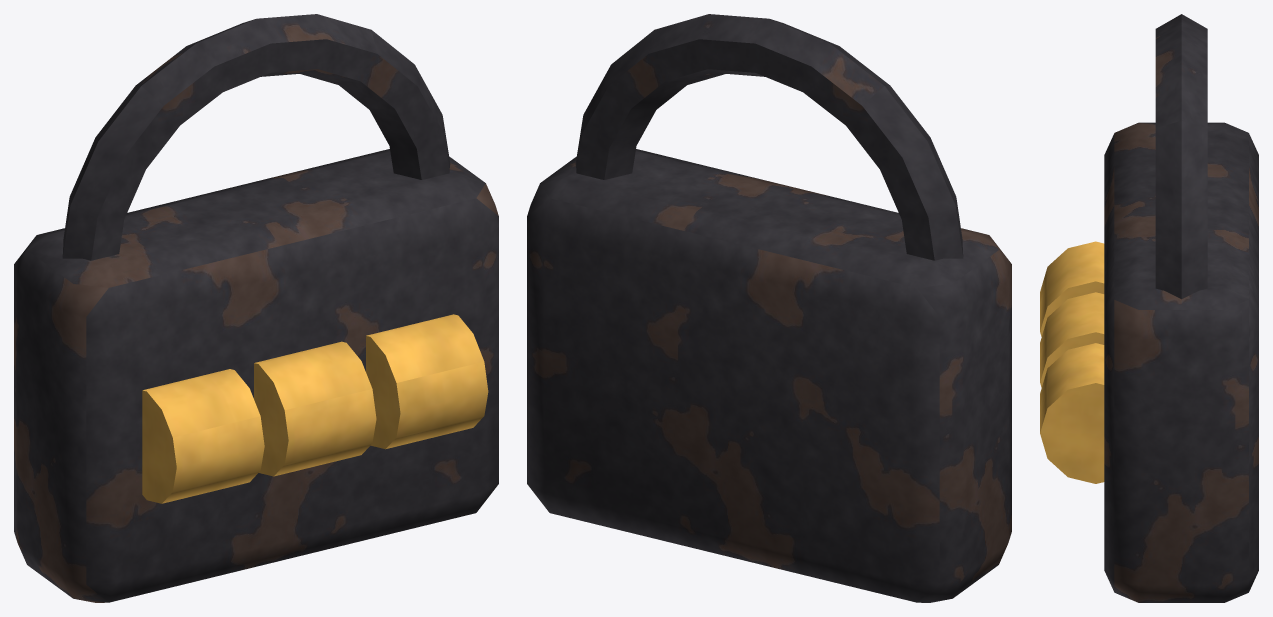
File: dun_lock3.glb
The picture shows the model from 3 angles, left to right: view 1: azimuth 30°, elevation 25°; view 2: azimuth 150°, elevation 25°; view 3: azimuth 270°, elevation 25°; orthographic projection. The views are drawn at different scales.
Visible parts, largest first — view 1: dun_lock3_iron_0, dun_lock3_gold_0; view 2: dun_lock3_iron_0; view 3: dun_lock3_iron_0, dun_lock3_gold_0.
Boxes of the visible parts, bbox=[...] form: dun_lock3_iron_0: bbox=[14, 14, 498, 602]; dun_lock3_gold_0: bbox=[142, 314, 488, 503]; dun_lock3_iron_0: bbox=[527, 14, 1011, 602]; dun_lock3_iron_0: bbox=[1104, 14, 1258, 602]; dun_lock3_gold_0: bbox=[1040, 241, 1104, 483].
Size of the model in its own units: 0.54 by 0.625 by 0.255.
2 materials, 2 textured.
